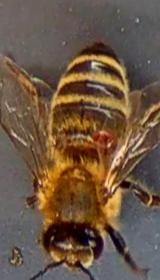varroa_mite: (84, 117, 125, 156)
